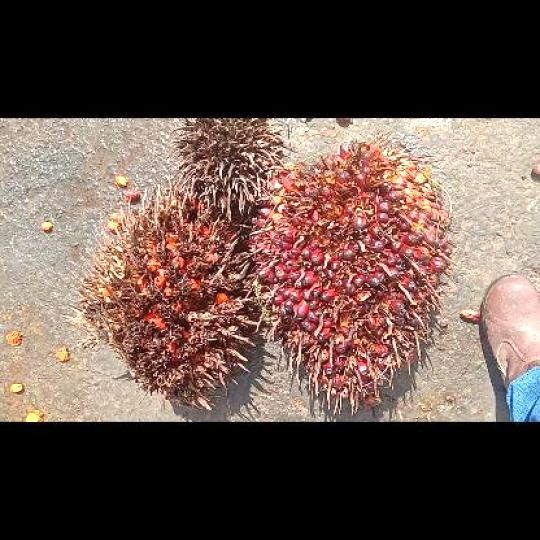masak: (246, 133, 458, 415)
terlalu masak: (65, 176, 262, 408)
